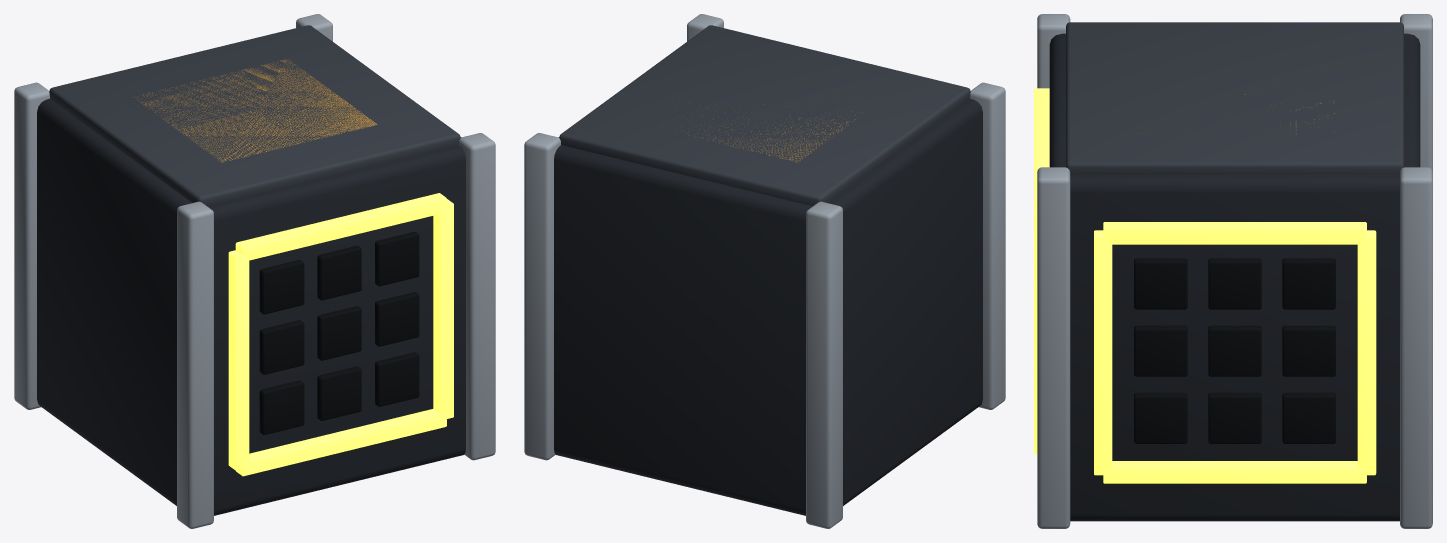
The model's file is rscInterface.fbx.
3 renders of one model, left to right at view 1: azimuth 30°, elevation 25°; view 2: azimuth 150°, elevation 25°; view 3: azimuth 270°, elevation 25°, orthographic. The views are drawn at different scales.
Visible parts, largest first — view 1: rscInterface_case, rscInterface_cap, rscInterface_post, rscInterface_post.002, rscInterface_topplate, rscInterface_post.001, rscInterface_frontframe_l, rscInterface_frontframe_t, rscInterface_frontframe_b, rscInterface_frontframe_r, rscInterface_sock02_f, rscInterface_sock01_f (+7 smaller); view 2: rscInterface_case, rscInterface_cap, rscInterface_post.001, rscInterface_post.003, rscInterface_post; view 3: rscInterface_case, rscInterface_cap, rscInterface_post.002, rscInterface_post.003, rscInterface_sideframe_t, rscInterface_sideframe_b, rscInterface_sideframe_r, rscInterface_sideframe_l, rscInterface_sock12_s, rscInterface_sock02_s, rscInterface_sock11_s, rscInterface_sock21_s (+9 smaller).
Part boxes in pixels (left/top/right/bottom): rscInterface_case: left=37, top=98, right=465, bottom=515; rscInterface_cap: left=49, top=25, right=460, bottom=206; rscInterface_post: left=177, top=201, right=213, bottom=528; rscInterface_post.002: left=459, top=133, right=495, bottom=460; rscInterface_topplate: left=133, top=59, right=377, bottom=162; rscInterface_post.001: left=14, top=82, right=49, bottom=409; rscInterface_frontframe_l: left=228, top=250, right=249, bottom=470; rscInterface_frontframe_t: left=235, top=193, right=446, bottom=260; rscInterface_frontframe_b: left=236, top=409, right=446, bottom=476; rscInterface_frontframe_r: left=433, top=199, right=453, bottom=418; rscInterface_sock02_f: left=259, top=259, right=304, bottom=314; rscInterface_sock01_f: left=259, top=320, right=304, bottom=374; rscInterface_case: left=554, top=98, right=982, bottom=515; rscInterface_cap: left=559, top=25, right=970, bottom=206; rscInterface_post.001: left=806, top=201, right=842, bottom=528; rscInterface_post.003: left=524, top=133, right=560, bottom=460; rscInterface_post: left=970, top=82, right=1005, bottom=409; rscInterface_case: left=1049, top=33, right=1420, bottom=521; rscInterface_cap: left=1066, top=22, right=1403, bottom=174; rscInterface_post.002: left=1037, top=167, right=1070, bottom=528; rscInterface_post.003: left=1400, top=167, right=1432, bottom=528; rscInterface_sideframe_t: left=1103, top=222, right=1366, bottom=244; rscInterface_sideframe_b: left=1103, top=461, right=1366, bottom=483; rscInterface_sideframe_r: left=1357, top=230, right=1376, bottom=475; rscInterface_sideframe_l: left=1094, top=230, right=1112, bottom=475; rscInterface_sock12_s: left=1208, top=258, right=1261, bottom=309; rscInterface_sock02_s: left=1134, top=258, right=1187, bottom=309; rscInterface_sock11_s: left=1208, top=325, right=1261, bottom=376; rscInterface_sock21_s: left=1282, top=325, right=1335, bottom=376.
Bounding box in the file's own units: 96.75 × 95 × 96.75.
